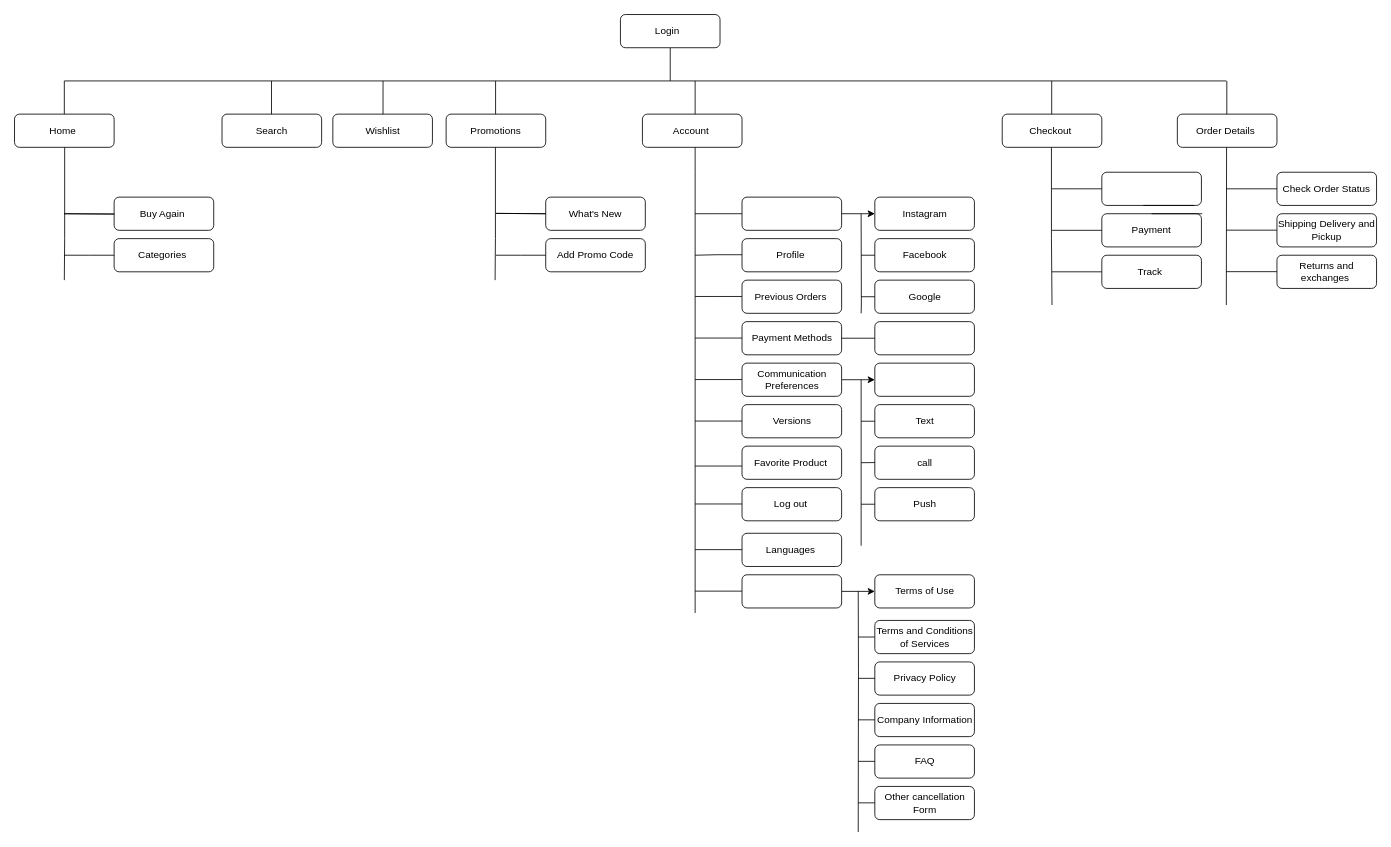
This 1391x847 diagram has some shape labels left out. Each missing label, with the box of its shape:
Account Settings: (741, 196, 842, 230)
Add new Card: (874, 321, 974, 355)
Address: (1101, 171, 1201, 205)
email: (874, 362, 974, 396)
Live Supports: (741, 574, 842, 608)
